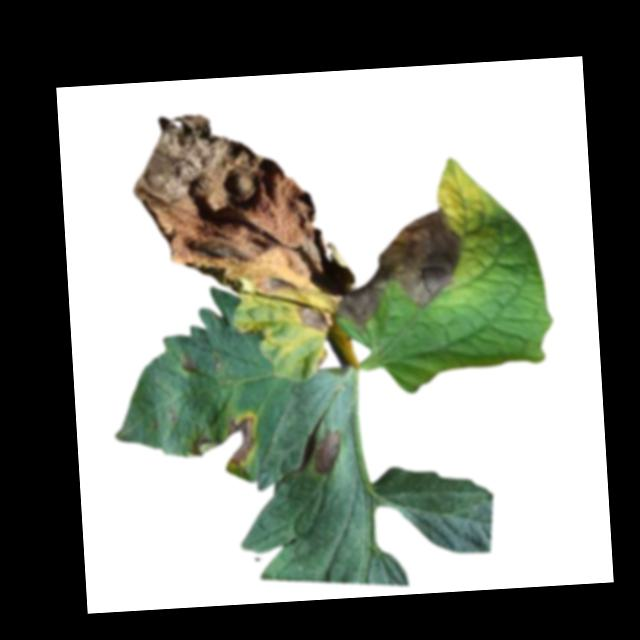Early_blight: (129, 106, 325, 303), (331, 206, 469, 327), (187, 410, 260, 469), (313, 430, 344, 474), (295, 305, 332, 334), (180, 356, 200, 377)
